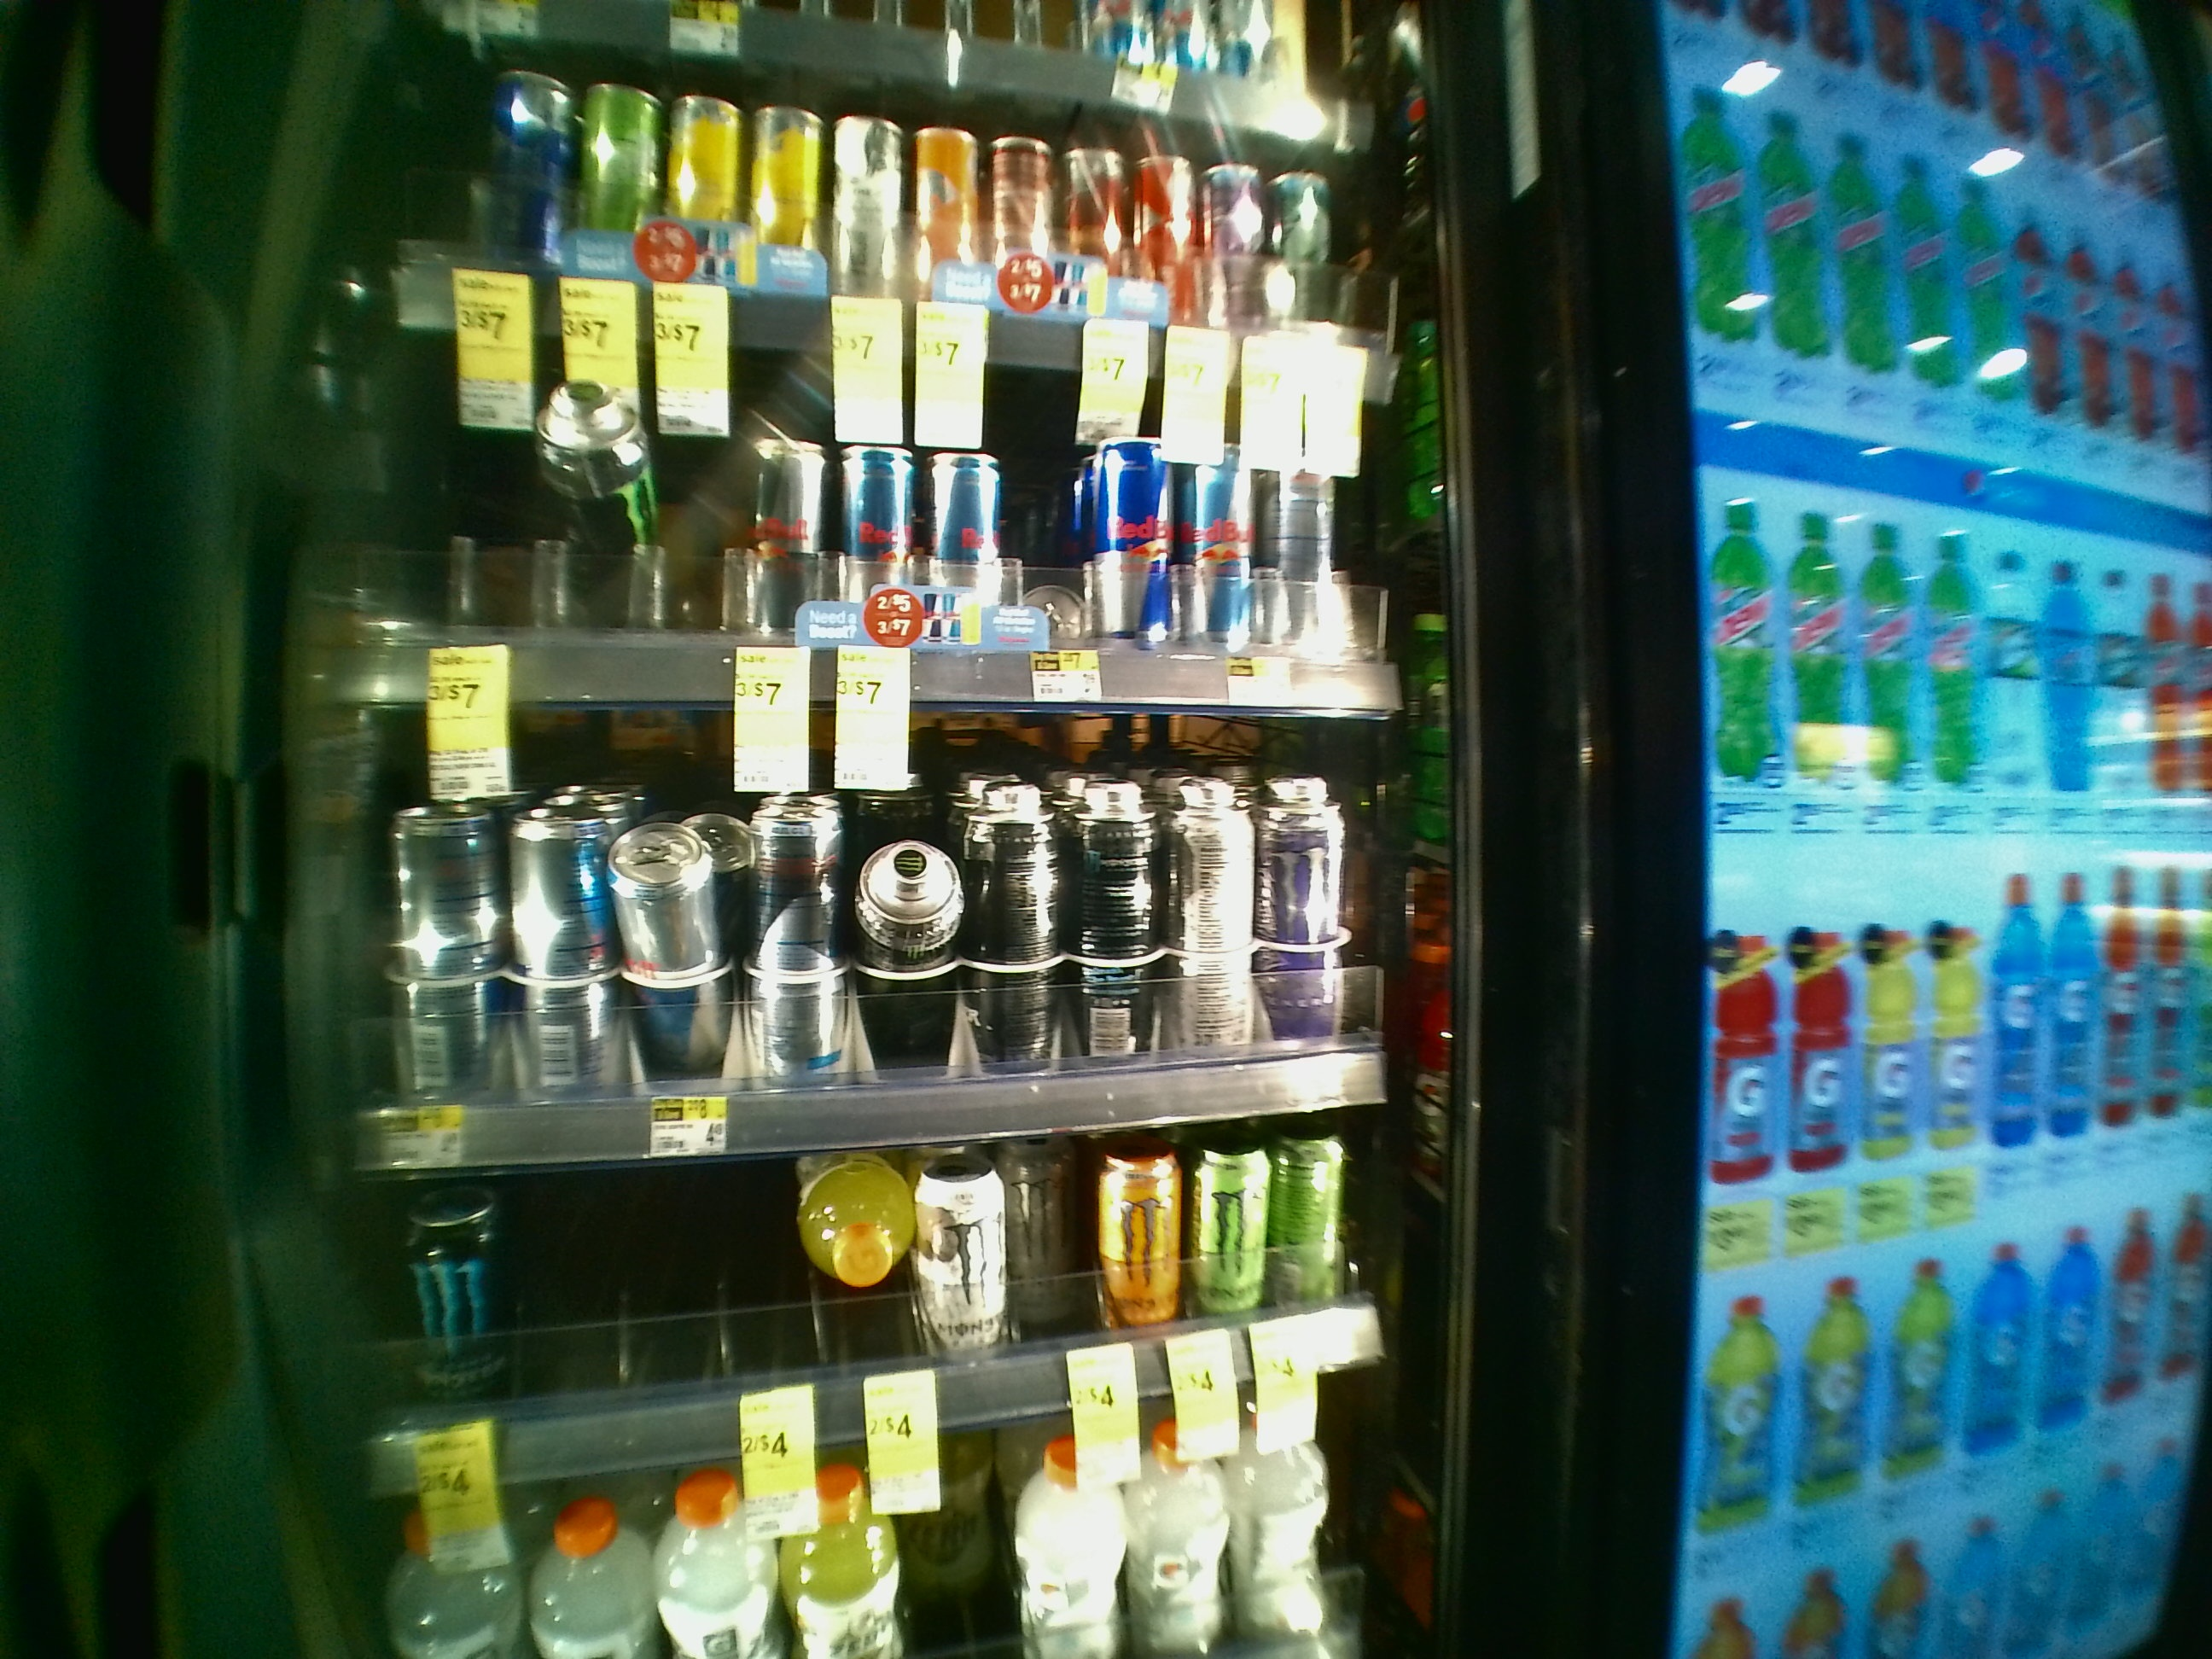shelf: (310, 702, 1475, 1154)
